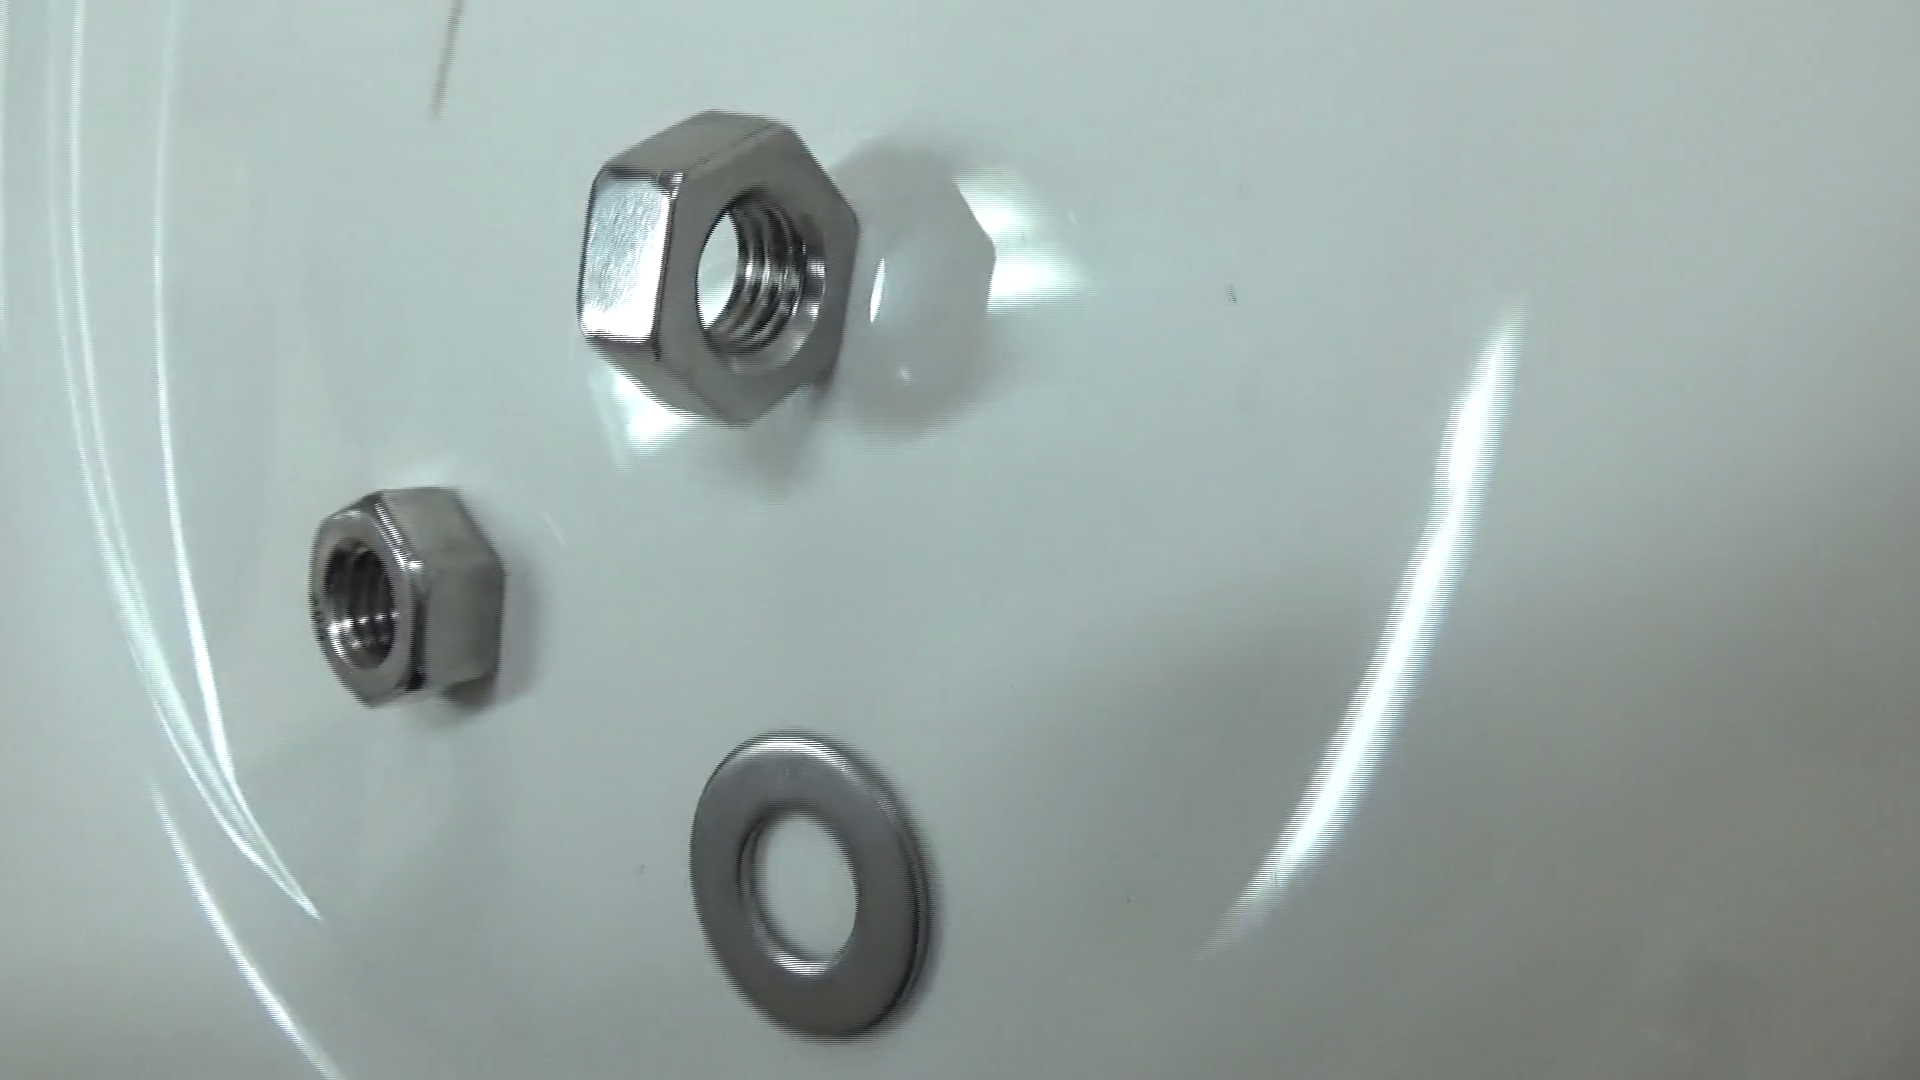nut: (538, 91, 876, 444), (280, 468, 525, 735)
washer: (662, 709, 964, 1048)
